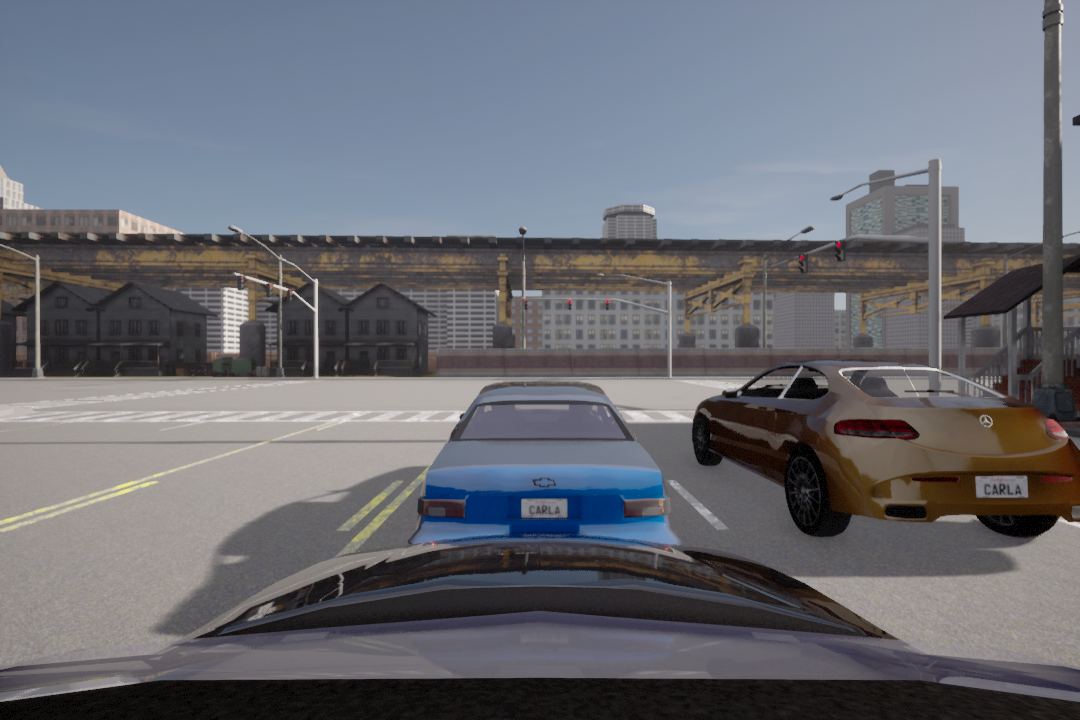TrafficLight: (832, 239, 848, 263), (796, 253, 810, 275), (232, 272, 246, 292), (264, 282, 275, 298), (287, 286, 294, 304), (522, 296, 529, 311), (567, 297, 574, 311), (605, 299, 611, 312)
walkside: (29, 405, 782, 431)
